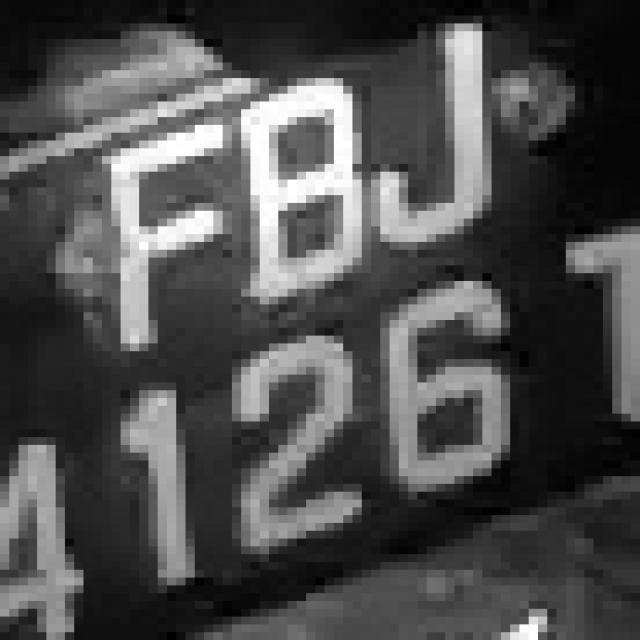1: (112, 359, 214, 593)
2: (204, 336, 390, 570)
4: (0, 5, 2, 8)
6: (371, 250, 510, 515)
B: (223, 62, 380, 336)
F: (84, 117, 241, 367)
J: (371, 16, 529, 273)
T: (8, 2, 10, 6)
